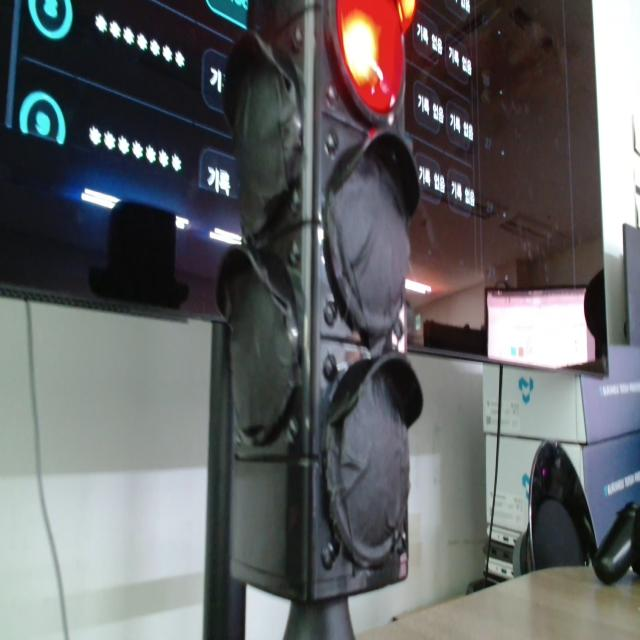red_light: (337, 0, 404, 114), (398, 0, 416, 33)
